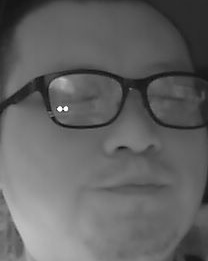glass: (44, 72, 125, 126), (147, 72, 208, 128)
mouth: (97, 168, 169, 199)
